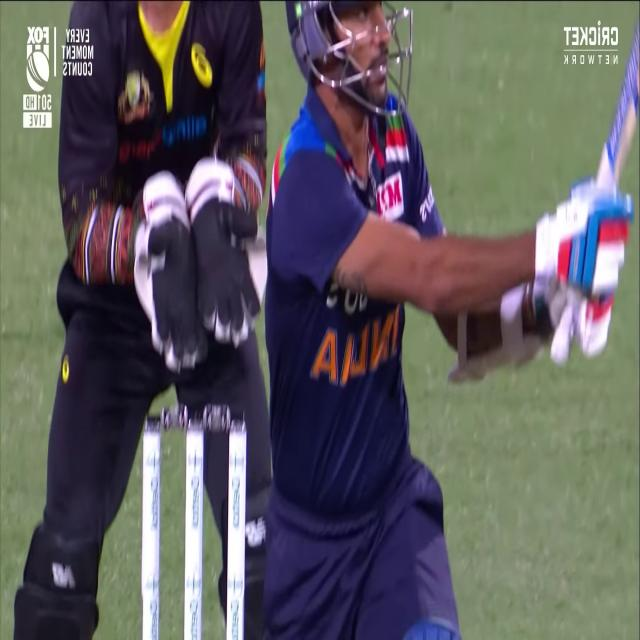stump: (142, 408, 246, 640)
